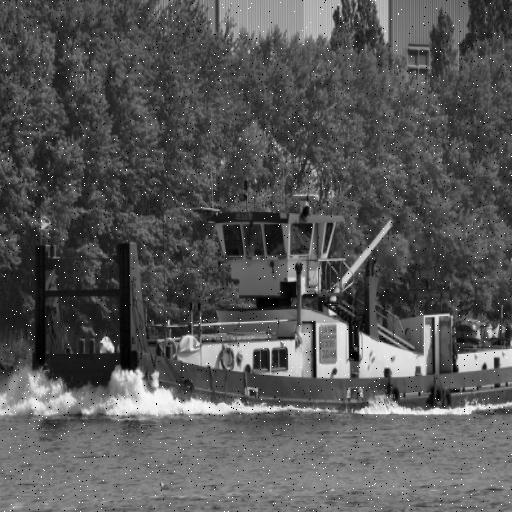tugboat: (27, 189, 512, 434)
